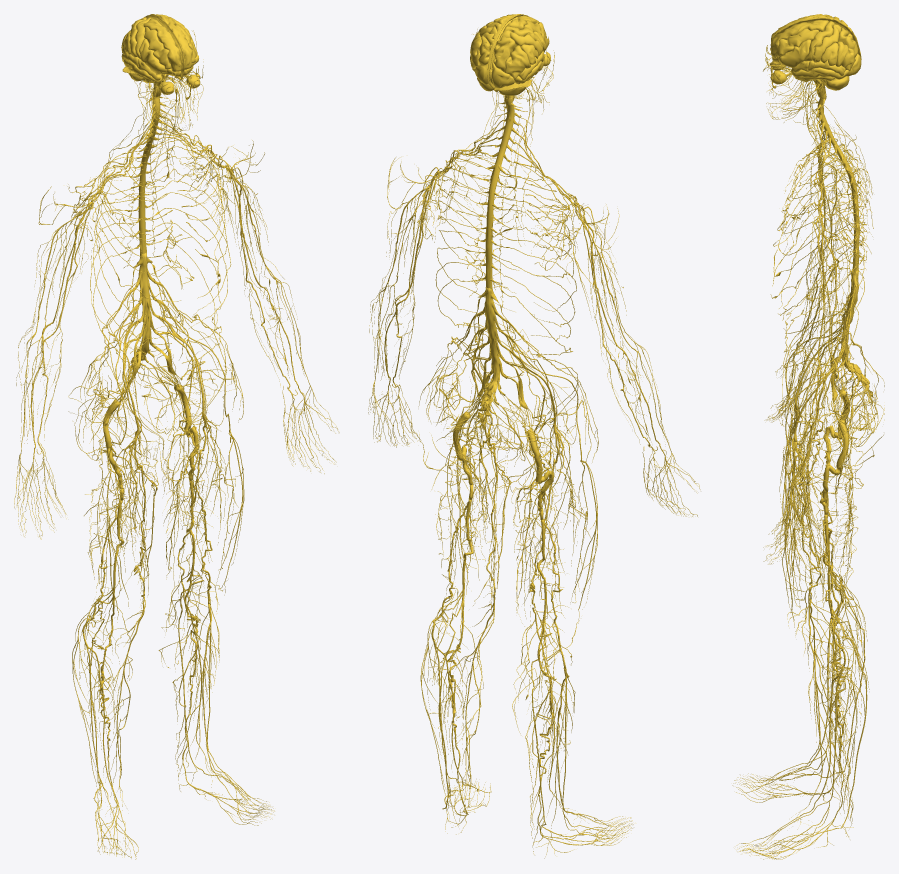
File: nervous.glb
3 views of the same model, side by side, from view 1: azimuth 30°, elevation 25°; view 2: azimuth 150°, elevation 25°; view 3: azimuth 270°, elevation 25° (orthographic). The views are drawn at different scales.
Visible parts, largest first — view 1: W_ZA985B873E, W_ZAFF4D5DA0, W_ZA9DB7973F, W_ZA743C006C, W_ZA66428FED, W_ZAEC361466, W_ZA00FBF7A8, W_ZACEB07384, W_ZAFDB77A76, W_ZA8C967A4A, W_ZA81E13E9A, W_ZAD250CB8C (+1 smaller); view 2: W_ZAFF4D5DA0, W_ZA985B873E, W_ZA743C006C, W_ZA9DB7973F, W_ZA66428FED, W_ZAEC361466, W_ZA81E13E9A, W_ZACEB07384, W_ZA00FBF7A8, W_ZA8C967A4A, W_ZAFDB77A76, W_ZA0900C7E7 (+4 smaller); view 3: W_ZAFF4D5DA0, W_ZAEC361466, W_ZA985B873E, W_ZACEB07384, W_ZA743C006C, W_ZA81E13E9A, W_ZAFDB77A76, W_ZA9DB7973F, W_ZA66428FED, W_ZAD250CB8C, W_ZA00FBF7A8, W_ZA62598DE8 (+29 smaller).
Boxes of the visible parts, bbox=[...] form: W_ZA985B873E: bbox=[79, 499, 130, 798]; W_ZAFF4D5DA0: bbox=[166, 481, 206, 776]; W_ZA9DB7973F: bbox=[128, 252, 159, 395]; W_ZA743C006C: bbox=[134, 96, 164, 265]; W_ZA66428FED: bbox=[91, 399, 137, 555]; W_ZAEC361466: bbox=[163, 384, 204, 538]; W_ZA00FBF7A8: bbox=[84, 315, 128, 622]; W_ZACEB07384: bbox=[158, 582, 222, 787]; W_ZAFDB77A76: bbox=[167, 308, 244, 595]; W_ZA8C967A4A: bbox=[99, 420, 149, 599]; W_ZA81E13E9A: bbox=[104, 594, 144, 810]; W_ZAD250CB8C: bbox=[189, 391, 238, 570]; W_ZAFF4D5DA0: bbox=[427, 499, 479, 810]; W_ZA985B873E: bbox=[518, 519, 566, 831]; W_ZA743C006C: bbox=[482, 97, 518, 289]; W_ZA9DB7973F: bbox=[476, 287, 508, 445]; W_ZA66428FED: bbox=[513, 428, 559, 576]; W_ZAEC361466: bbox=[440, 412, 488, 561]; W_ZA81E13E9A: bbox=[512, 605, 575, 838]; W_ZACEB07384: bbox=[452, 592, 495, 821]; W_ZA00FBF7A8: bbox=[515, 342, 597, 623]; W_ZA8C967A4A: bbox=[543, 408, 592, 602]; W_ZAFDB77A76: bbox=[431, 335, 479, 594]; W_ZA0900C7E7: bbox=[508, 404, 564, 632]; W_ZAFF4D5DA0: bbox=[822, 514, 866, 817]; W_ZAEC361466: bbox=[816, 420, 856, 571]; W_ZA985B873E: bbox=[822, 491, 863, 783]; W_ZACEB07384: bbox=[791, 599, 860, 819]; W_ZA743C006C: bbox=[816, 94, 859, 274]; W_ZA81E13E9A: bbox=[793, 584, 857, 787]; W_ZAFDB77A76: bbox=[780, 336, 845, 633]; W_ZA9DB7973F: bbox=[839, 269, 874, 413]; W_ZA66428FED: bbox=[814, 389, 853, 546]; W_ZAD250CB8C: bbox=[787, 421, 814, 607]; W_ZA00FBF7A8: bbox=[779, 316, 844, 582]; W_ZA62598DE8: bbox=[798, 613, 865, 813].
Bounding box in the file's own units: 0.6765 × 1.6 × 0.2759.
